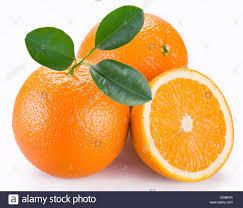orange: (1, 55, 133, 184), (125, 60, 235, 185), (69, 0, 195, 77)
